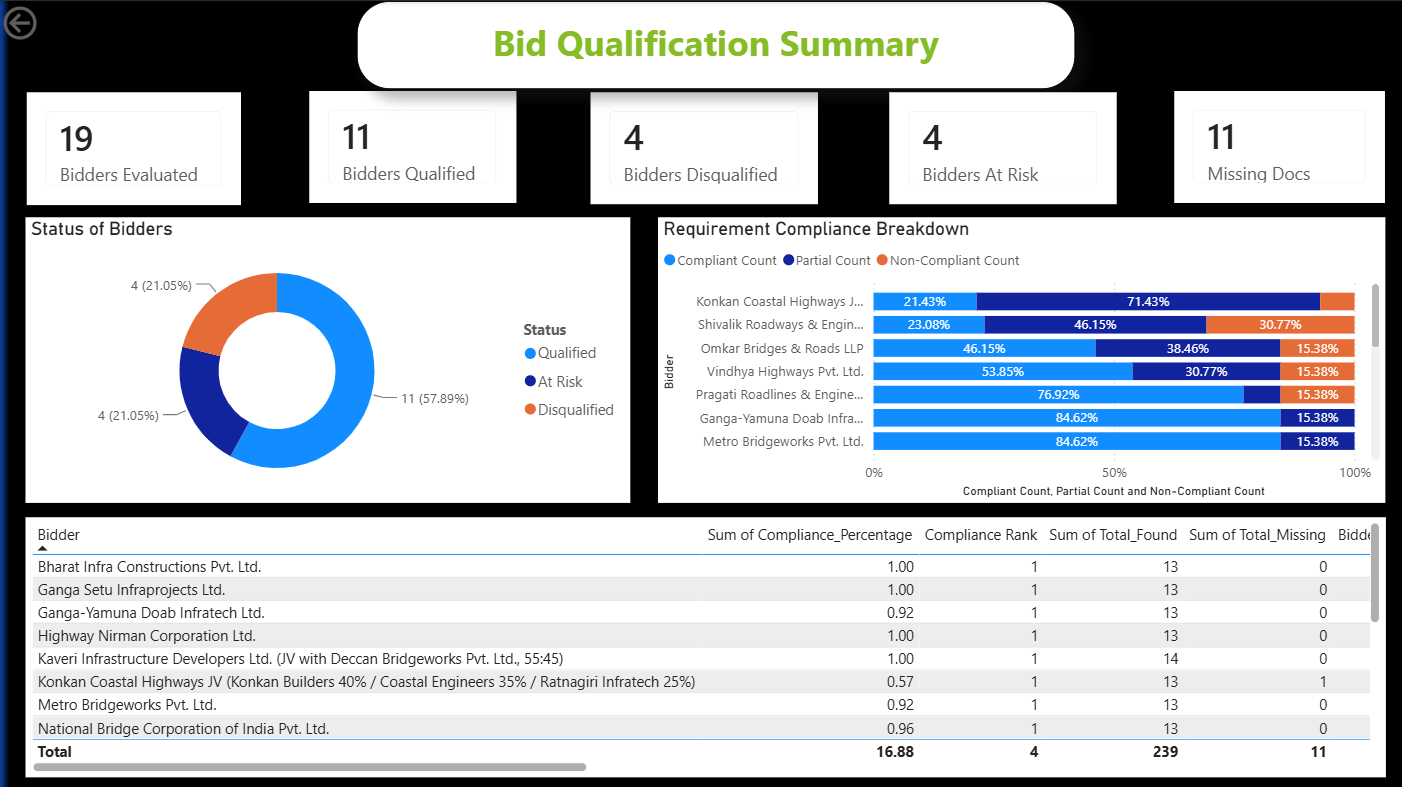

What the dashboard file says about the page in this screenshot:
{"tool":"powerbi","page":{"name":"Bid Qualification Summary","canvas":[1280,720],"ordinal":1},"visuals":[{"type":"cardVisual","fields":{"Data":["03_AI_Summary.Bidders Evaluated"]},"box":[25.5,83,194.6,102.1],"z":0},{"type":"cardVisual","fields":{"Data":["03_AI_Summary.Bidders Qualified"]},"box":[282.7,81.5,187.9,101.4],"z":1000},{"type":"cardVisual","fields":{"Data":["01_Matching.Bidders Disqualified"]},"box":[537.2,83.2,206.2,101.4],"z":2000},{"type":"tableEx","fields":{"Values":["03_AI_Summary.Bidder","Sum(03_AI_Summary.Compliance_Percentage)","03_AI_Summary.Compliance Rank","Sum(03_AI_Summary.Total_Found)","Sum(03_AI_Summary.Total_Missing)","03_AI_Summary.Bidders At Risk","03_AI_Summary.Bidders Qualified","03_AI_Summary.Avg Compliance %","03_AI_Summary.Total Found Docs","03_AI_Summary.Total Missing Docs","03_AI_Summary.Tender_Name"]},"box":[24.9,469,1234,236.2],"z":3000},{"type":"textbox","box":[326,0,651.9,79.8],"z":4000},{"type":"actionButton","box":[0,0,100,40],"z":5000},{"type":"hundredPercentStackedBarChart","title":"Requirement Compliance Breakdown","fields":{"Category":["02_Output.Bidder"],"Y":["02_Output.Compliant Count","02_Output.Partial Count","02_Output.Non-Compliant Count"]},"box":[598.7,196.2,660.2,259.4],"z":6000},{"type":"cardVisual","fields":{"Data":["02_Output.Docs Not Found"]},"box":[1067.7,81.5,191.3,101.4],"z":7000},{"type":"donutChart","title":"Status of Bidders","fields":{"Category":["Bidder_Status.Status"],"Y":["CountNonNull(Bidder_Status.Bidder)"]},"box":[24.9,196.2,548.8,259.4],"z":8000},{"type":"cardVisual","fields":{"Data":["03_AI_Summary.Bidders At Risk"]},"box":[808.3,83.2,206.2,101.4],"z":9000}]}

Visuals, with their boxes in screenshot pixels (x1, y1, x2, y2), scaled from the page's 1280x720 canvas onto the 1402x787 screenshot:
cardVisual - 03_AI_Summary.Bidders Evaluated: <bbox>28, 91, 241, 202</bbox>
cardVisual - 03_AI_Summary.Bidders Qualified: <bbox>310, 89, 515, 200</bbox>
cardVisual - 01_Matching.Bidders Disqualified: <bbox>588, 91, 814, 202</bbox>
tableEx - 03_AI_Summary.Bidder x Sum(03_AI_Summary.Compliance_Percentage): <bbox>27, 513, 1379, 771</bbox>
textbox: <bbox>357, 0, 1071, 87</bbox>
actionButton: <bbox>0, 0, 110, 44</bbox>
"Requirement Compliance Breakdown" hundredPercentStackedBarChart: <bbox>656, 214, 1379, 498</bbox>
cardVisual - 02_Output.Docs Not Found: <bbox>1169, 89, 1379, 200</bbox>
"Status of Bidders" donutChart: <bbox>27, 214, 628, 498</bbox>
cardVisual - 03_AI_Summary.Bidders At Risk: <bbox>885, 91, 1111, 202</bbox>
